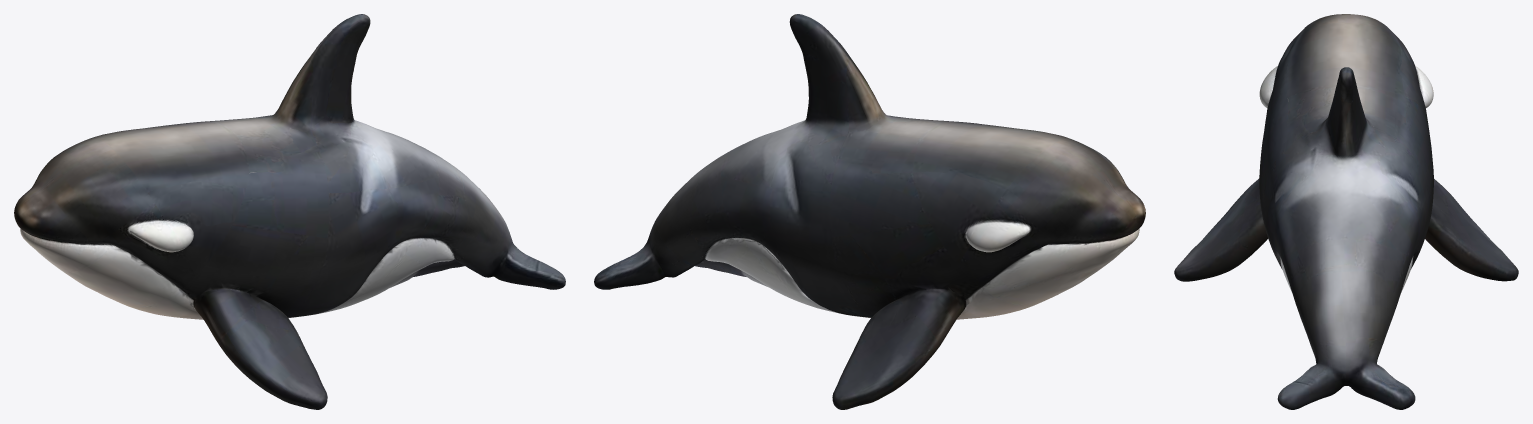
Rendered from orca.glb.
3 views of the same model, side by side, from view 1: azimuth 30°, elevation 25°; view 2: azimuth 150°, elevation 25°; view 3: azimuth 270°, elevation 25° (orthographic). The views are drawn at different scales.
Visible parts, largest first — view 1: tripo_node_f104baf6-a577-43d8-8970-6d8599800093; view 2: tripo_node_f104baf6-a577-43d8-8970-6d8599800093; view 3: tripo_node_f104baf6-a577-43d8-8970-6d8599800093.
Boxes of the visible parts, box(x1,y1,x2,y2) form: tripo_node_f104baf6-a577-43d8-8970-6d8599800093: box(14, 14, 565, 409); tripo_node_f104baf6-a577-43d8-8970-6d8599800093: box(594, 14, 1145, 409); tripo_node_f104baf6-a577-43d8-8970-6d8599800093: box(1174, 14, 1518, 409).
Bounding box in the file's own units: 0.9795 × 0.5397 × 0.6259.
1 material, 1 textured.
